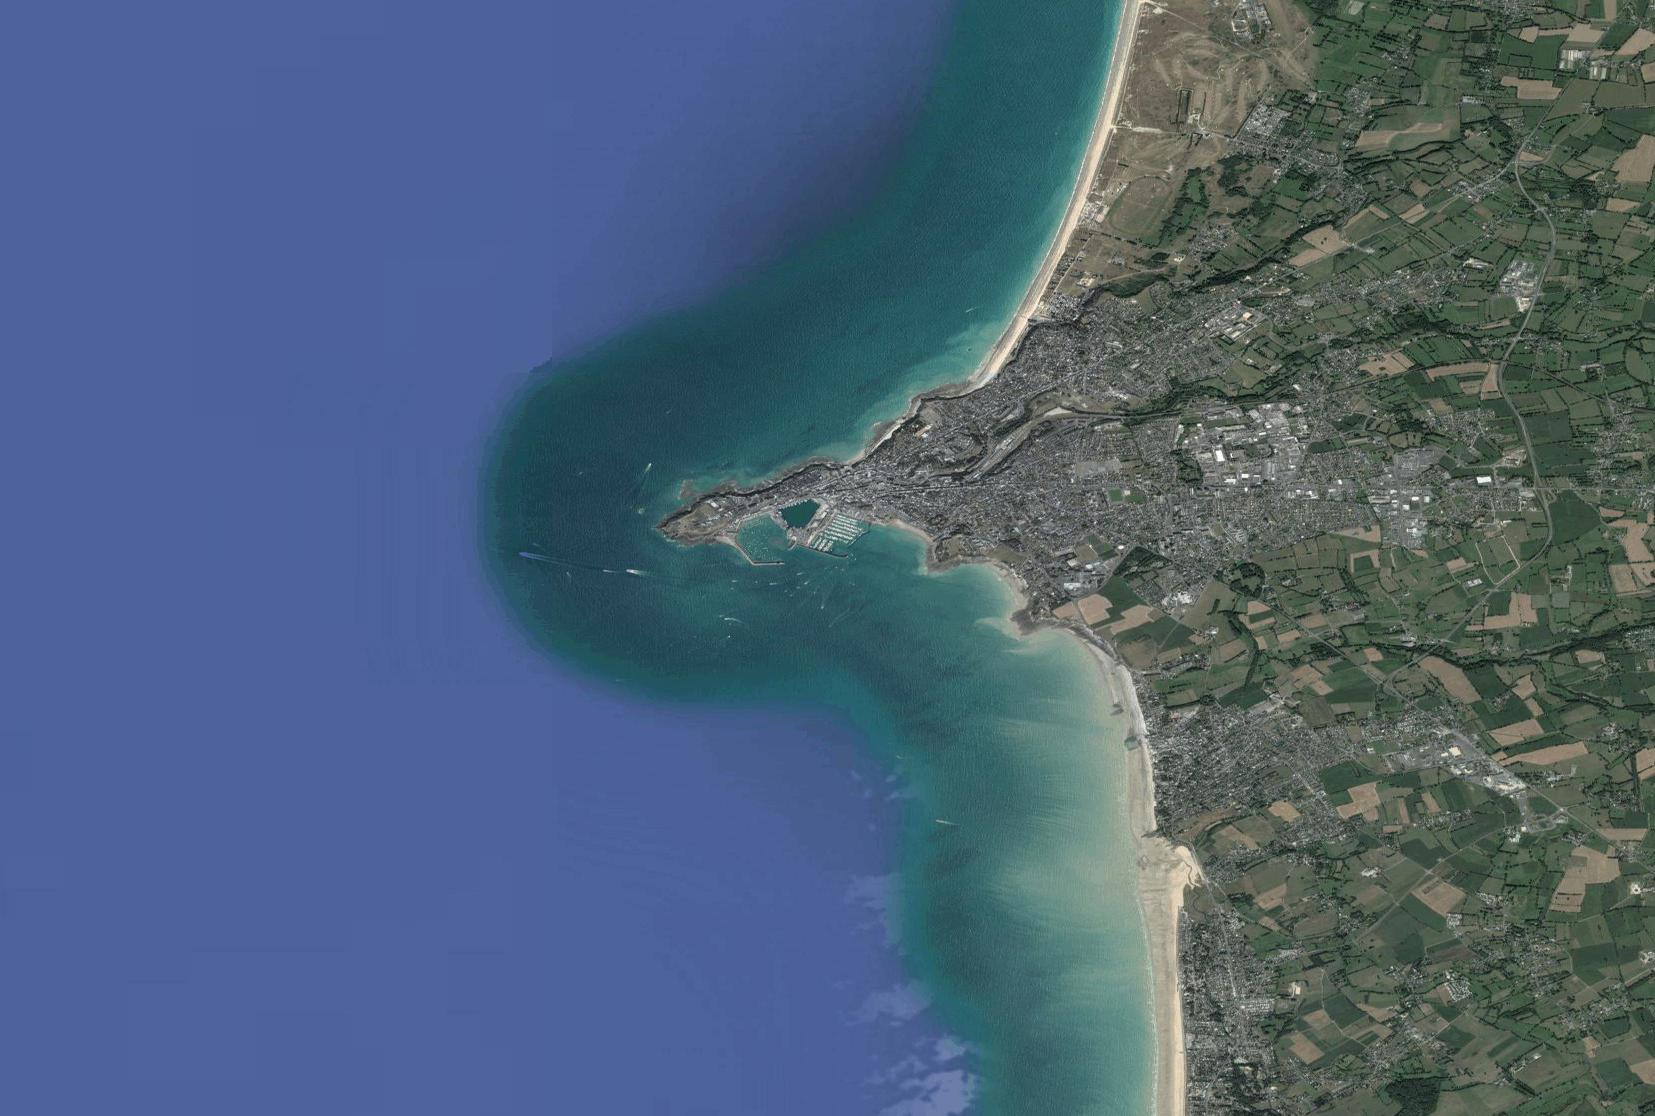harbor: (728, 504, 867, 573)
train_station: (983, 427, 1025, 465)
